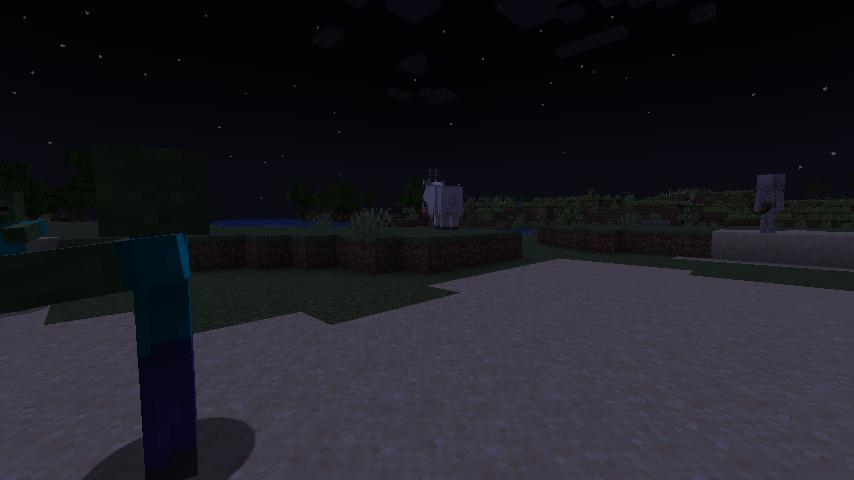goat: (420, 167, 464, 228)
skeleton: (753, 171, 787, 233)
zombie: (0, 139, 214, 479), (0, 188, 45, 260)
